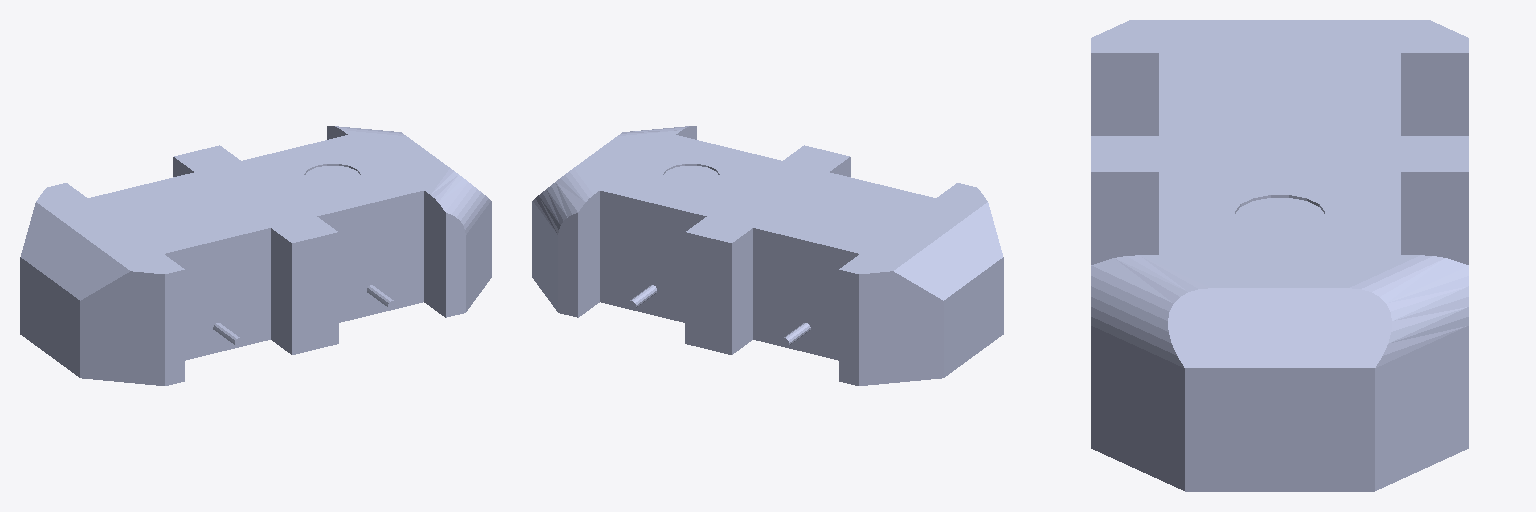
The robot description file, URDF, robot "cafe_robot":
<?xml version="1.0" encoding="utf-8"?>
<!-- This URDF was automatically created by SolidWorks to URDF Exporter! Originally created by [author] ([email redacted]) 
     Commit Version:   Build Version: 1.5.7914.27669
     For more information, please see http://wiki.ros.org/sw_urdf_exporter -->
<robot
  name="cafe_robot">
  <link
    name="base_link">
    <inertial>
      <origin
        xyz="-0.25085263189235 0.124999962303015 0.0935320082362602"
        rpy="0 0 0" />
      <mass
        value="10.8578811053591" />
      <inertia
        ixx="0.0426858240432794"
        ixy="1.7569086594278E-07"
        ixz="0.000155619703380273"
        iyy="0.230347212991678"
        iyz="-3.18405125974503E-08"
        izz="0.264862085249415" />
    </inertial>
    <visual>
      <origin
        xyz="0 0 0"
        rpy="0 0 0" />
      <geometry>
        <mesh
          filename="package://cafe_robot/meshes/base_link.STL" />
      </geometry>
      <material
        name="">
        <color
          rgba="0.792156862745098 0.819607843137255 0.933333333333333 1" />
      </material>
    </visual>
    <collision>
      <origin
        xyz="0 0 0"
        rpy="0 0 0" />
      <geometry>
        <mesh
          filename="package://cafe_robot/meshes/base_link.STL" />
      </geometry>
    </collision>
  </link>
  <link
    name="fwr">
    <inertial>
      <origin
        xyz="-0.020730182706802 -3.05311331771918E-16 -5.55111512312578E-17"
        rpy="0 0 0" />
      <mass
        value="0.411963029786123" />
      <inertia
        ixx="0.000782944022280859"
        ixy="1.63673263883773E-19"
        ixz="1.01835643551111E-19"
        iyy="0.00044224300953557"
        iyz="-5.42101086242752E-20"
        izz="0.00044224300953557" />
    </inertial>
    <visual>
      <origin
        xyz="0 0 0"
        rpy="0 0 0" />
      <geometry>
        <mesh
          filename="package://cafe_robot/meshes/fwr.STL" />
      </geometry>
      <material
        name="">
        <color
          rgba="0.792156862745098 0.819607843137255 0.933333333333333 1" />
      </material>
    </visual>
    <collision>
      <origin
        xyz="0 0 0"
        rpy="0 0 0" />
      <geometry>
        <mesh
          filename="package://cafe_robot/meshes/fwr.STL" />
      </geometry>
    </collision>
  </link>
  <joint
    name="fwrj"
    type="continuous">
    <origin
      xyz="-0.15674 0 0.06"
      rpy="-2.7485 0 -1.5708" />
    <parent
      link="base_link" />
    <child
      link="fwr" />
    <axis
      xyz="-1 0 0" />
    <limit
      effort="100"
      velocity="100" />
  </joint>
  <link
    name="bwr">
    <inertial>
      <origin
        xyz="-0.0207301827068022 -1.11022302462516E-16 -2.77555756156289E-17"
        rpy="0 0 0" />
      <mass
        value="0.411963029786123" />
      <inertia
        ixx="0.000782944022280859"
        ixy="2.7490034794638E-19"
        ixz="8.41716902329948E-20"
        iyy="0.00044224300953557"
        iyz="1.35525271560688E-20"
        izz="0.00044224300953557" />
    </inertial>
    <visual>
      <origin
        xyz="0 0 0"
        rpy="0 0 0" />
      <geometry>
        <mesh
          filename="package://cafe_robot/meshes/bwr.STL" />
      </geometry>
      <material
        name="">
        <color
          rgba="0.792156862745098 0.819607843137255 0.933333333333333 1" />
      </material>
    </visual>
    <collision>
      <origin
        xyz="0 0 0"
        rpy="0 0 0" />
      <geometry>
        <mesh
          filename="package://cafe_robot/meshes/bwr.STL" />
      </geometry>
    </collision>
  </link>
  <joint
    name="bwrj"
    type="continuous">
    <origin
      xyz="-0.34326 0 0.06"
      rpy="-2.7485 0 -1.5708" />
    <parent
      link="base_link" />
    <child
      link="bwr" />
    <axis
      xyz="-1 0 0" />
    <limit
      effort="100"
      velocity="100" />
  </joint>
  <link
    name="fwl">
    <inertial>
      <origin
        xyz="0.0192698172931982 2.2639694285953E-10 -1.76622078074118E-10"
        rpy="0 0 0" />
      <mass
        value="0.411963029786123" />
      <inertia
        ixx="0.000782944022280858"
        ixy="4.00282008960999E-12"
        ixz="-3.12277793936144E-12"
        iyy="0.00044224300953557"
        iyz="-3.01022136718782E-20"
        izz="0.00044224300953557" />
    </inertial>
    <visual>
      <origin
        xyz="0 0 0"
        rpy="0 0 0" />
      <geometry>
        <mesh
          filename="package://cafe_robot/meshes/fwl.STL" />
      </geometry>
      <material
        name="">
        <color
          rgba="0.792156862745098 0.819607843137255 0.933333333333333 1" />
      </material>
    </visual>
    <collision>
      <origin
        xyz="0 0 0"
        rpy="0 0 0" />
      <geometry>
        <mesh
          filename="package://cafe_robot/meshes/fwl.STL" />
      </geometry>
    </collision>
  </link>
  <joint
    name="fwlj"
    type="continuous">
    <origin
      xyz="-0.15674 0.21 0.06"
      rpy="-0.90828 0 1.5708" />
    <parent
      link="base_link" />
    <child
      link="fwl" />
    <axis
      xyz="1 0 0" />
    <limit
      effort="100"
      velocity="100" />
  </joint>
  <link
    name="bwl">
    <inertial>
      <origin
        xyz="0.0192698172931983 2.3715227004395E-10 -1.61894164740772E-10"
        rpy="0 0 0" />
      <mass
        value="0.411963029786123" />
      <inertia
        ixx="0.000782944022280858"
        ixy="4.19298552777216E-12"
        ixz="-2.86237435985586E-12"
        iyy="0.00044224300953557"
        iyz="2.74670831122755E-20"
        izz="0.00044224300953557" />
    </inertial>
    <visual>
      <origin
        xyz="0 0 0"
        rpy="0 0 0" />
      <geometry>
        <mesh
          filename="package://cafe_robot/meshes/bwl.STL" />
      </geometry>
      <material
        name="">
        <color
          rgba="0.792156862745098 0.819607843137255 0.933333333333333 1" />
      </material>
    </visual>
    <collision>
      <origin
        xyz="0 0 0"
        rpy="0 0 0" />
      <geometry>
        <mesh
          filename="package://cafe_robot/meshes/bwl.STL" />
      </geometry>
    </collision>
  </link>
  <joint
    name="bwlj"
    type="continuous">
    <origin
      xyz="-0.34326 0.21 0.06"
      rpy="-0.9718 0 1.5708" />
    <parent
      link="base_link" />
    <child
      link="bwl" />
    <axis
      xyz="1 0 0" />
    <limit
      effort="100"
      velocity="100" />
  </joint>
  <link
    name="laser_sen">
    <inertial>
      <origin
        xyz="0.001 -0.001 -0.001"
        rpy="0 0 0" />
      <mass
        value="8.00000000000002E-06" />
      <inertia
        ixx="5.33333333333336E-12"
        ixy="2.23558666723887E-28"
        ixz="2.60949186066306E-29"
        iyy="5.33333333333336E-12"
        iyz="1.10442030512094E-28"
        izz="5.33333333333336E-12" />
    </inertial>
    <visual>
      <origin
        xyz="0 0 0"
        rpy="0 0 0" />
      <geometry>
        <mesh
          filename="package://cafe_robot/meshes/laser_sen.STL" />
      </geometry>
      <material
        name="">
        <color
          rgba="0.792156862745098 0.819607843137255 0.933333333333333 1" />
      </material>
    </visual>
    <collision>
      <origin
        xyz="0 0 0"
        rpy="0 0 0" />
      <geometry>
        <mesh
          filename="package://cafe_robot/meshes/laser_sen.STL" />
      </geometry>
    </collision>
  </link>
  <joint
    name="laser_senj"
    type="fixed">
    <origin
      xyz="-0.042 0.128 0.162"
      rpy="0 0 0" />
    <parent
      link="base_link" />
    <child
      link="laser_sen" />
    <axis
      xyz="0 0 0" />
  </joint>
  <link
    name="cam_sen">
    <inertial>
      <origin
        xyz="0.001 -0.001 -0.001"
        rpy="0 0 0" />
      <mass
        value="8.00000000000003E-06" />
      <inertia
        ixx="5.33333333333336E-12"
        ixy="9.68348751433871E-29"
        ixz="-2.39795703092794E-28"
        iyy="5.33333333333336E-12"
        iyz="-6.99450407893483E-28"
        izz="5.33333333333336E-12" />
    </inertial>
    <visual>
      <origin
        xyz="0 0 0"
        rpy="0 0 0" />
      <geometry>
        <mesh
          filename="package://cafe_robot/meshes/cam_sen.STL" />
      </geometry>
      <material
        name="">
        <color
          rgba="0.792156862745098 0.819607843137255 0.933333333333333 1" />
      </material>
    </visual>
    <collision>
      <origin
        xyz="0 0 0"
        rpy="0 0 0" />
      <geometry>
        <mesh
          filename="package://cafe_robot/meshes/cam_sen.STL" />
      </geometry>
    </collision>
  </link>
  <joint
    name="cam_senj"
    type="fixed">
    <origin
      xyz="-0.04 0.124 0.16"
      rpy="-1.5708 0 3.1416" />
    <parent
      link="base_link" />
    <child
      link="cam_sen" />
    <axis
      xyz="0 0 0" />
  </joint>
  <link
    name="emp_sen">
    <inertial>
      <origin
        xyz="0.001 -0.001 -0.001"
        rpy="0 0 0" />
      <mass
        value="8.00000000000003E-06" />
      <inertia
        ixx="5.33333333333336E-12"
        ixy="9.6834875143387E-29"
        ixz="-2.39795703092794E-28"
        iyy="5.33333333333336E-12"
        iyz="-6.99450407893483E-28"
        izz="5.33333333333336E-12" />
    </inertial>
    <visual>
      <origin
        xyz="0 0 0"
        rpy="0 0 0" />
      <geometry>
        <mesh
          filename="package://cafe_robot/meshes/emp_sen.STL" />
      </geometry>
      <material
        name="">
        <color
          rgba="0.792156862745098 0.819607843137255 0.933333333333333 1" />
      </material>
    </visual>
    <collision>
      <origin
        xyz="0 0 0"
        rpy="0 0 0" />
      <geometry>
        <mesh
          filename="package://cafe_robot/meshes/emp_sen.STL" />
      </geometry>
    </collision>
  </link>
  <joint
    name="emp_senj"
    type="fixed">
    <origin
      xyz="-0.04 0.122 0.16"
      rpy="-1.5708 0 3.1416" />
    <parent
      link="base_link" />
    <child
      link="emp_sen" />
    <axis
      xyz="0 0 0" />
  </joint>
  <link
    name="top">
    <inertial>
      <origin
        xyz="0 0.0125651013239149 -2.77555756156289E-17"
        rpy="0 0 0" />
      <mass
        value="0.260678745840163" />
      <inertia
        ixx="0.000367429779280589"
        ixy="3.4564176069204E-20"
        ixz="-2.03287907341032E-20"
        iyy="0.000668095783252645"
        iyz="6.24363974199095E-21"
        izz="0.000388638806672402" />
    </inertial>
    <visual>
      <origin
        xyz="0 0 0"
        rpy="0 0 0" />
      <geometry>
        <mesh
          filename="package://cafe_robot/meshes/top.STL" />
      </geometry>
      <material
        name="">
        <color
          rgba="0.792156862745098 0.819607843137255 0.933333333333333 1" />
      </material>
    </visual>
    <collision>
      <origin
        xyz="0 0 0"
        rpy="0 0 0" />
      <geometry>
        <mesh
          filename="package://cafe_robot/meshes/top.STL" />
      </geometry>
    </collision>
  </link>
  <joint
    name="topj"
    type="fixed">
    <origin
      xyz="-0.15674 0.125 0.158"
      rpy="1.5708 0 0.20185" />
    <parent
      link="base_link" />
    <child
      link="top" />
    <axis
      xyz="0 0 0" />
    <limit
      lower="-3.14"
      upper="3.14"
      effort="100"
      velocity="100" />
  </joint>






     
 <gazebo>
  <plugin name="skid_steer_drive_controller" filename="libgazebo_ros_skid_steer_drive.so">
    <updateRate>100.0</updateRate>
    <robotNamespace>/</robotNamespace>
    <leftFrontJoint>fwlj</leftFrontJoint>
    <rightFrontJoint>fwrj</rightFrontJoint>
    <leftRearJoint>bwlj</leftRearJoint>
    <rightRearJoint>bwrj</rightRearJoint>
    <wheelSeparation>0.21</wheelSeparation>
    <wheelDiameter>0.12</wheelDiameter>
    <robotBaseFrame>base_link</robotBaseFrame>
    <torque>20</torque>
    <topicName>cmd_vel</topicName>
    <broadcastTF>true</broadcastTF>
  </plugin>
</gazebo>











</robot>

--- What the picture shows (computed from the rendered views, not written in the file) ---
Views: 3 orthographic renders of the robot side by side, from view 1: azimuth 30°, elevation 25°; view 2: azimuth 150°, elevation 25°; view 3: azimuth 270°, elevation 25°.
Model cafe_robot with 9 links and 8 joints (4 continuous, 4 fixed), rooted at base_link, posed every joint at zero.
Links seen in each view (by area): view 1: base_link; view 2: base_link; view 3: base_link.
Link boxes in pixels (x1=…): base_link: x1=20, y1=126, x2=491, y2=385; base_link: x1=532, y1=126, x2=1003, y2=385; base_link: x1=1091, y1=20, x2=1468, y2=491.
Size in the robot's own frame: 0.5 by 0.25 by 0.13 metres.
Meshes: 9 distinct files referenced, 1 mesh visuals loaded (1 binary STL); not drawn: 8 (reference not matched to a file when rendering).